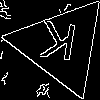K: (36, 20, 79, 71)
